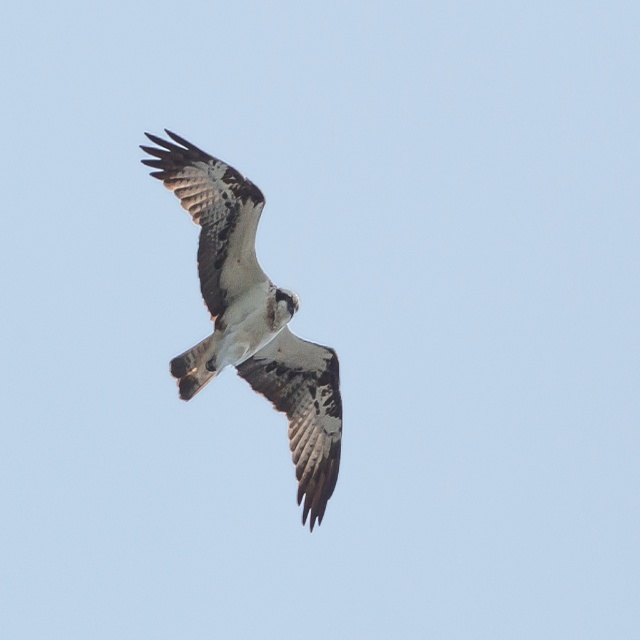Eagle: (139, 128, 342, 533)
